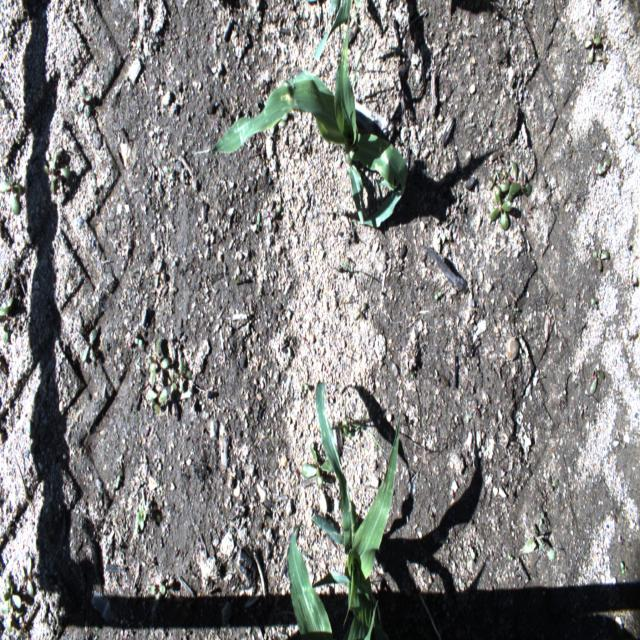crop: (212, 17, 408, 226), (287, 380, 401, 640), (311, 0, 352, 65)
weed: (345, 409, 394, 456), (300, 441, 336, 483), (43, 145, 70, 196), (498, 161, 532, 200), (147, 334, 169, 388), (0, 174, 24, 218), (25, 417, 51, 455), (489, 184, 510, 230), (172, 358, 193, 394), (520, 525, 545, 555), (0, 296, 15, 345), (582, 34, 601, 66), (0, 583, 23, 609), (145, 382, 168, 408), (22, 554, 35, 598), (0, 595, 15, 632), (316, 471, 327, 516), (81, 330, 96, 362), (589, 364, 604, 394), (593, 246, 610, 272), (148, 581, 168, 601), (164, 369, 176, 396), (596, 156, 611, 175), (136, 505, 146, 533), (130, 335, 146, 347), (487, 171, 498, 186), (548, 476, 558, 492), (342, 423, 350, 439), (620, 560, 627, 575), (230, 277, 240, 286), (434, 289, 442, 299), (540, 511, 544, 525), (409, 369, 414, 380)
